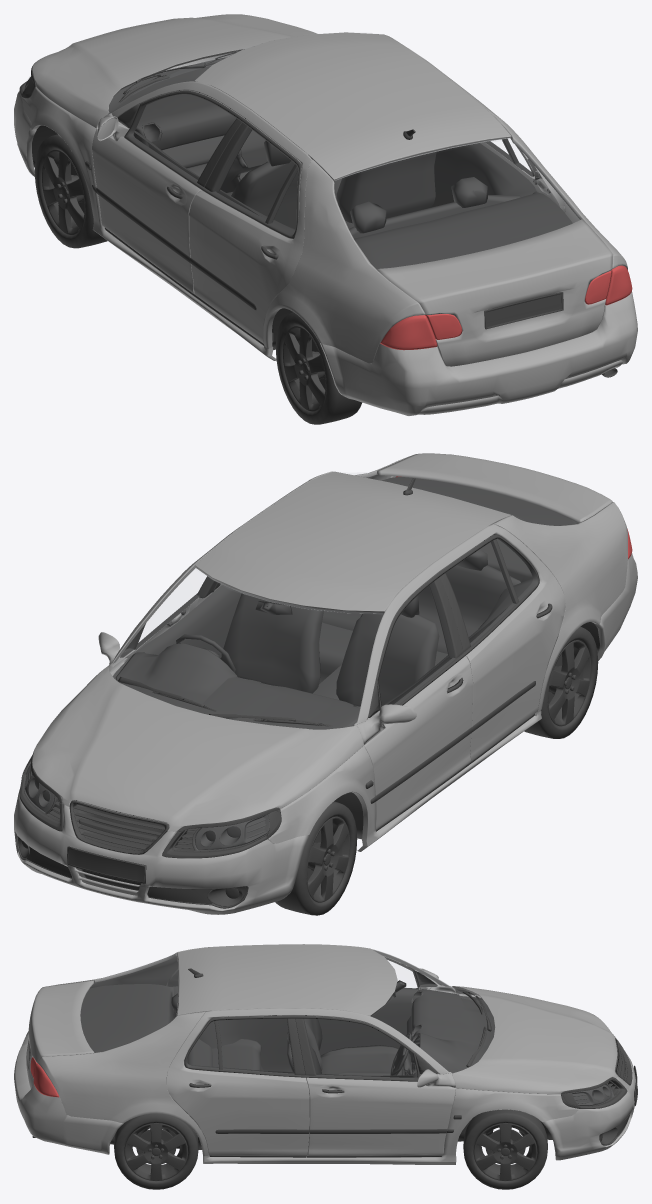
File: car.fbx
3 views of the same model, one above another, from view 1: azimuth 30°, elevation 25°; view 2: azimuth 150°, elevation 25°; view 3: azimuth 270°, elevation 25° (orthographic). The views are drawn at different scales.
Visible parts, largest first — view 1: polySurface111, polySurface89, polySurface110, polySurface91, polySurface108, polySurface100, polySurface68, polySurface137, polySurface18, R_D, R_U, polySurface13 (+19 smaller); view 2: polySurface108, polySurface111, polySurface110, polySurface100, polySurface107, polySurface18, polySurface137, polySurface68, polySurface13, polySurface89, polySurface16, R_U (+16 smaller); view 3: polySurface109, polySurface111, polySurface98, polySurface108, polySurface68, polySurface130, L_U, L_D, polySurface18, polySurface91, polySurface89, polySurface107 (+17 smaller).
Boxes of the visible parts, x1=… form: polySurface111: x1=194, y1=32, x2=511, y2=180; polySurface89: x1=377, y1=219, x2=612, y2=366; polySurface110: x1=22, y1=87, x2=425, y2=363; polySurface91: x1=320, y1=291, x2=637, y2=415; polySurface108: x1=32, y1=14, x2=317, y2=128; polySurface100: x1=111, y1=81, x2=311, y2=343; polySurface68: x1=134, y1=131, x2=572, y2=269; polySurface137: x1=92, y1=129, x2=201, y2=293; polySurface18: x1=108, y1=57, x2=353, y2=228; R_D: x1=275, y1=312, x2=362, y2=424; R_U: x1=34, y1=134, x2=107, y2=248; polySurface13: x1=336, y1=151, x2=436, y2=223; polySurface108: x1=32, y1=665, x2=363, y2=831; polySurface111: x1=194, y1=471, x2=511, y2=613; polySurface110: x1=268, y1=502, x2=627, y2=851; polySurface100: x1=357, y1=524, x2=565, y2=760; polySurface107: x1=14, y1=788, x2=308, y2=914; polySurface18: x1=115, y1=643, x2=360, y2=729; polySurface137: x1=364, y1=656, x2=473, y2=829; polySurface68: x1=112, y1=477, x2=573, y2=705; polySurface13: x1=221, y1=593, x2=323, y2=693; polySurface89: x1=376, y1=453, x2=612, y2=523; polySurface16: x1=336, y1=613, x2=439, y2=706; R_U: x1=275, y1=801, x2=357, y2=915; polySurface109: x1=38, y1=1011, x2=578, y2=1164; polySurface111: x1=176, y1=944, x2=397, y2=1016; polySurface98: x1=167, y1=1008, x2=449, y2=1155; polySurface108: x1=452, y1=986, x2=617, y2=1094; polySurface68: x1=80, y1=984, x2=472, y2=1146; polySurface130: x1=306, y1=1077, x2=455, y2=1157; L_U: x1=463, y1=1109, x2=547, y2=1189; L_D: x1=114, y1=1113, x2=198, y2=1189; polySurface18: x1=406, y1=989, x2=494, y2=1077; polySurface91: x1=14, y1=1031, x2=123, y2=1154; polySurface89: x1=26, y1=980, x2=94, y2=1089; polySurface107: x1=542, y1=1043, x2=635, y2=1160.
Bounding box in the file's own units: 19.1 × 13.9 × 44.73.
